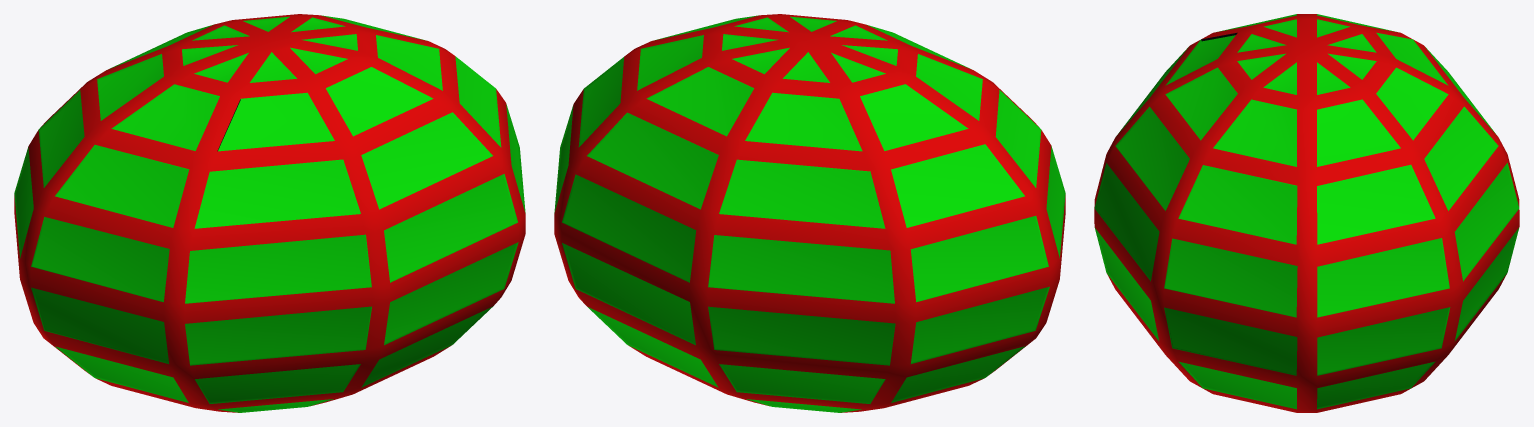
The model's file is lavaRock.fbx.
The picture shows the model from 3 angles, left to right: view 1: azimuth 30°, elevation 25°; view 2: azimuth 150°, elevation 25°; view 3: azimuth 270°, elevation 25°; orthographic projection. The views are drawn at different scales.
Parts seen in each view (by area): view 1: pSphere1; view 2: pSphere1; view 3: pSphere1.
Boxes of the visible parts, <box> form: pSphere1: <box>14,14,525,412</box>; pSphere1: <box>554,14,1065,412</box>; pSphere1: <box>1094,14,1519,412</box>.
Bounding box in the file's own units: 2.51 × 1.68 × 1.97.
